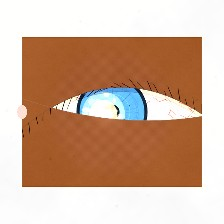corneal_ulcer: (79, 95, 127, 134)
